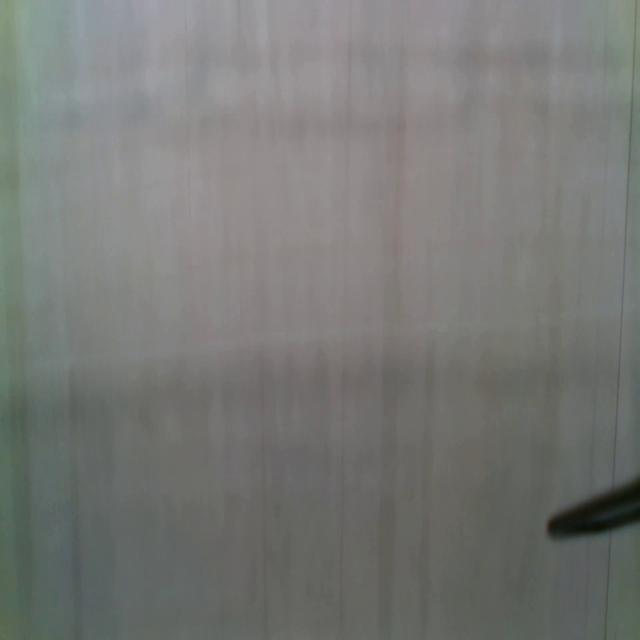color bleeding: (25, 33, 640, 154), (2, 339, 636, 443)
crease: (612, 0, 637, 477), (337, 5, 353, 636), (259, 347, 272, 636), (181, 0, 196, 228), (602, 529, 615, 640)
